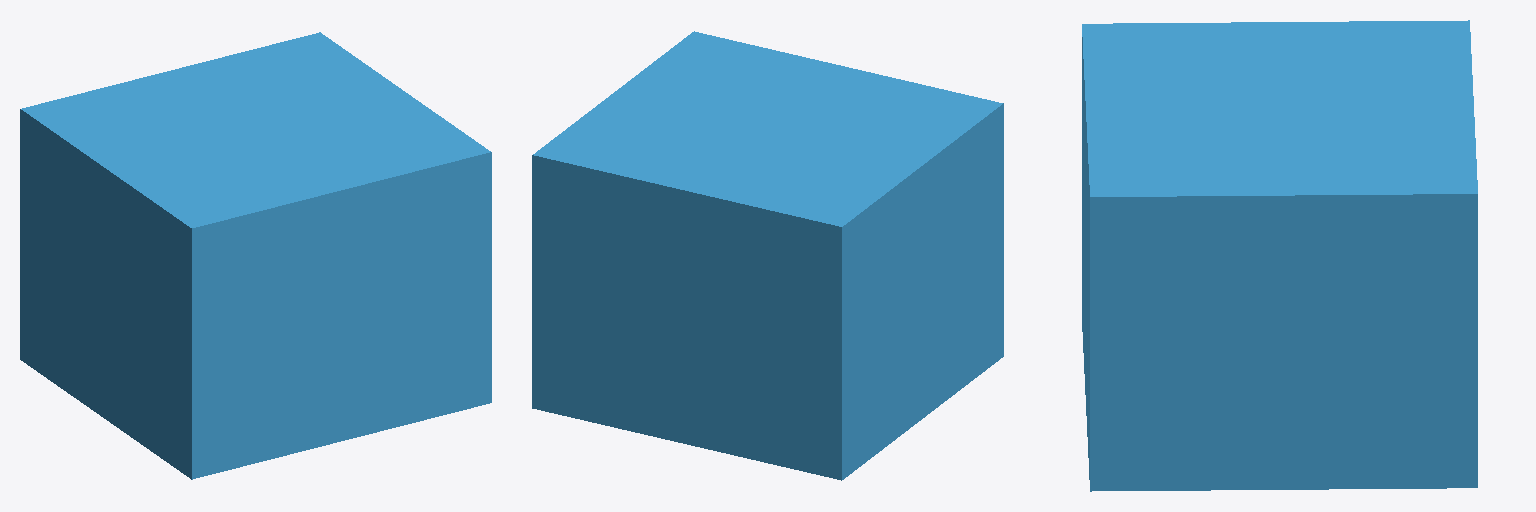
URDF robot description (pylone):
<?xml version="1.0" ?>
<robot name="pylone">
   <material name="grey">
        <color rgba=".2 .2 .2 1" />
    </material>

   <link name="pylone_link">
      <visual>
         <geometry>
            <mesh filename="/home/gepetto/ros2_ws/src/hpp_panda_tests/models/meshes/visual/pylone.stl" scale="1.0 1.0 1.0"/>
         </geometry>
         <material name="grey">
            <color rgba="0.0 0.9 0.9 1.0"/>
         </material>
      </visual>
      <collision>
         <geometry>
            <mesh filename="/home/gepetto/ros2_ws/src/hpp_panda_tests/models/meshes/collision/pylone.stl" scale="1.0 1.0 1.0"/>
         </geometry>
      </collision>
      <inertial>
         <origin rpy="0 0 0" xyz="0.0 0.0 0.0"/>
         <mass value="0.1"/>
         <inertia ixx="1" ixy="0" ixz="0" iyy="1" iyz="0" izz="1"/>
      </inertial>
   </link>


   <link name="base_box">
    <visual>
      <geometry>
        <box size="0.55 0.52 0.435"/>
      </geometry>
      <material name="blue"/>
    </visual>
    <collision>
      <geometry>
        <box size="0.55 0.52 0.435"/>
      </geometry>
    </collision>
    <inertial>
      <origin rpy="0 0 0" xyz="0 0 0"/>
      <mass value="5.0"/>
      <inertia ixx="0.52" ixy="0" ixz="0" iyy="0.52" iyz="0" izz="0.52"/>
    </inertial>
  </link>


  <joint name="side_to_pylone" type="fixed">
     <parent link="pylone_link"/>
    <child link="base_box"/>
    <origin xyz="0 0.015 -0.52" rpy="0 0 0.02"/>
  </joint>
</robot>

--- Render facts (derived) ---
3 views of the same robot in one strip: view 1: azimuth 30°, elevation 25°; view 2: azimuth 150°, elevation 25°; view 3: azimuth 270°, elevation 25° (orthographic).
Robot: pylone — 2 links, 1 joints (1 fixed); root link pylone_link; default pose: every joint at zero.
Visible links, largest first — view 1: base_box; view 2: base_box; view 3: base_box.
Link boxes in pixels (x1,y1,x2,y2): base_box: (20,32,491,479); base_box: (532,31,1003,480); base_box: (1082,20,1477,491).
Size in the robot's own frame: 0.5603 by 0.5309 by 0.435 metres.
Geometry: only primitive shapes (box / cylinder / sphere) drawn; not drawn: 1 mesh visual (reference in a form the renderer does not follow).
